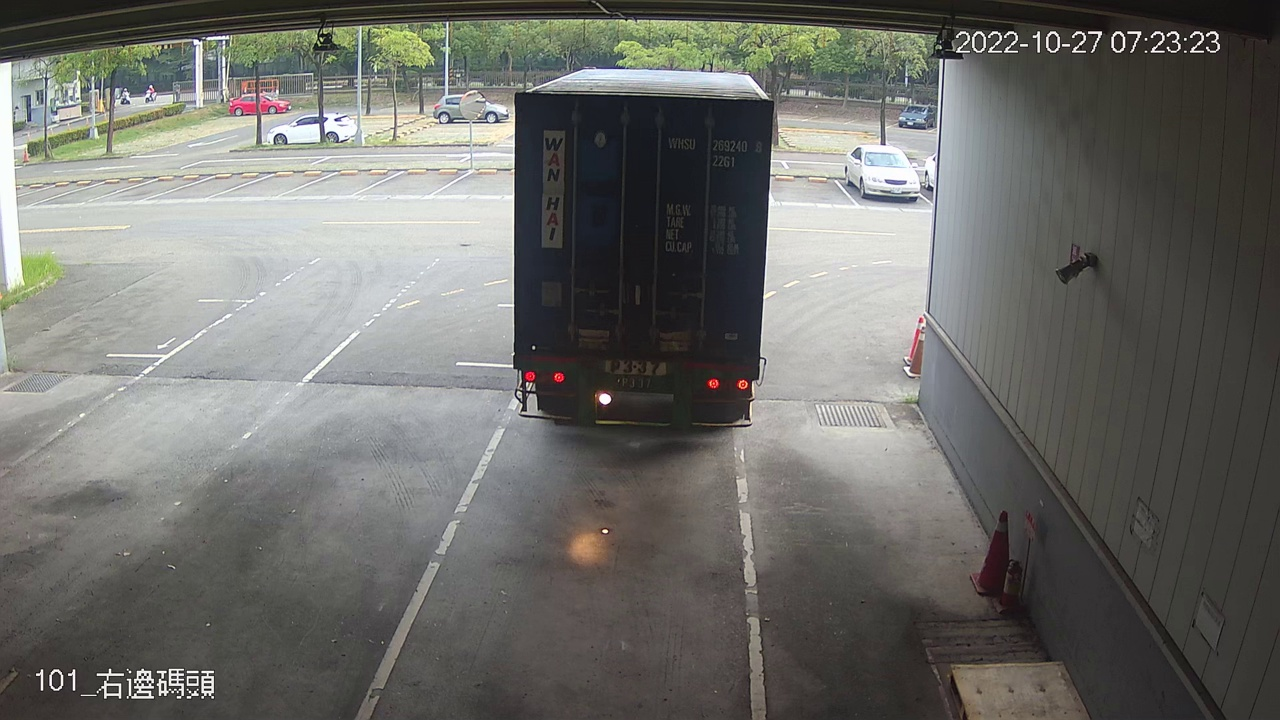container: (666, 129, 767, 173)
